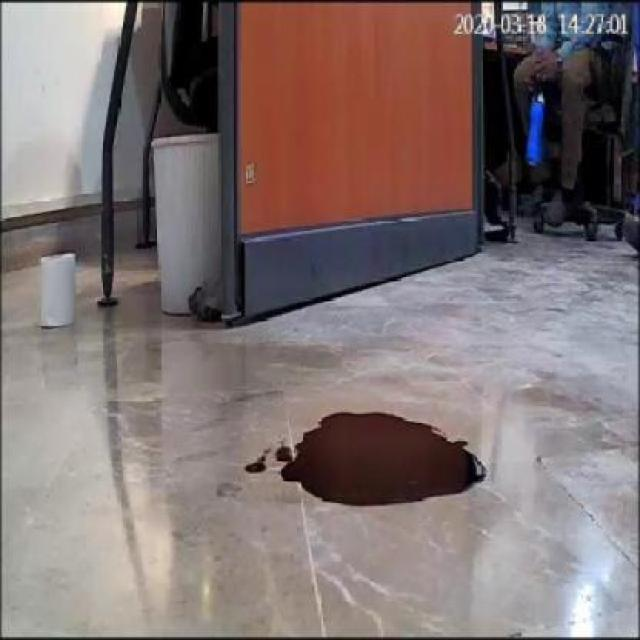spillage: (230, 405, 480, 507)
